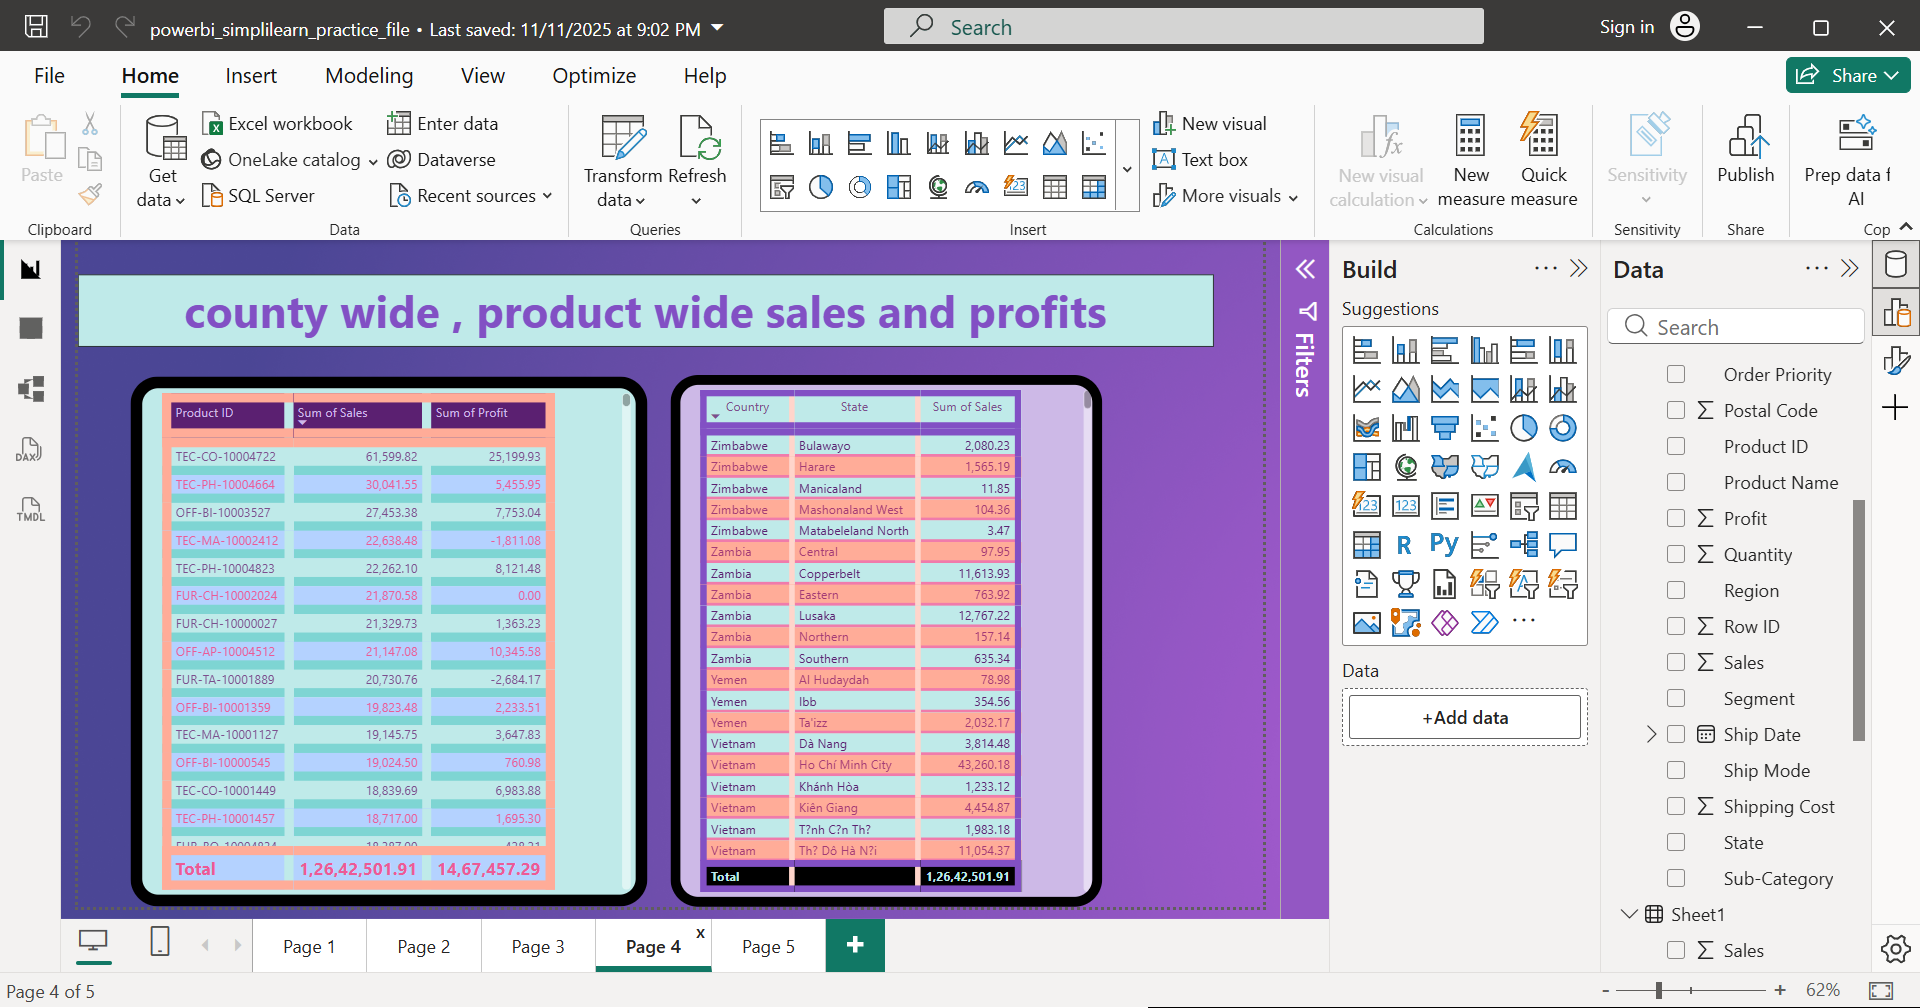

What the dashboard file says about the page in this screenshot:
{"tool":"powerbi","page":{"name":"Page 4","canvas":[1280,720],"ordinal":3},"visuals":[{"type":"tableEx","fields":{"Values":["Global_Superstore2.Product ID","Sum(Global_Superstore2.Sales)","Sum(Global_Superstore2.Profit)"]},"box":[56,148,558,572],"z":0},{"type":"tableEx","fields":{"Values":["Global_Superstore2.Country","Global_Superstore2.State","Sum(Global_Superstore2.Sales)"]},"box":[640,146,466,574],"z":1000},{"type":"textbox","box":[0,38,1226,78],"z":2000}]}

Visuals, with their boxes on the page's 1280x720 design canvas (x1, y1, x2, y2). These are canvas units, not pixel positions in the 1920x1008 screenshot, which may show the page scaled, cropped or inside an application window:
tableEx - Global_Superstore2.Product ID x Sum(Global_Superstore2.Sales): (56,148,614,720)
tableEx - Global_Superstore2.Country x Global_Superstore2.State: (640,146,1106,720)
textbox: (0,38,1226,116)
